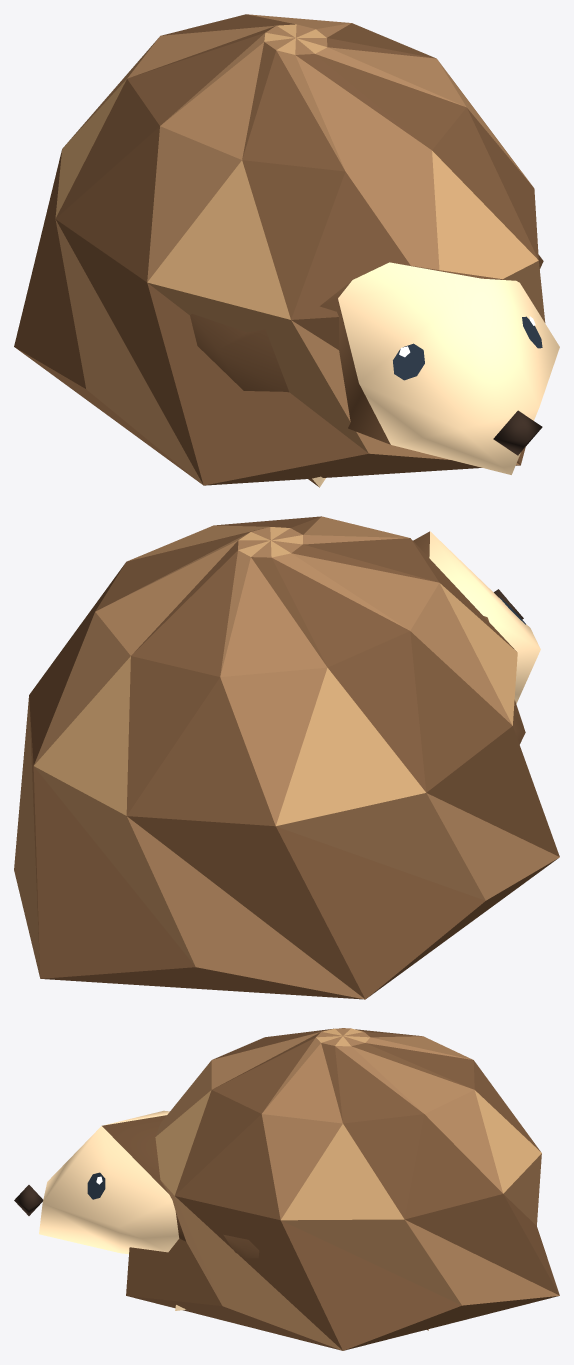
The model's file is hedgehog-walk.glb.
The picture shows the model from 3 angles, top to bottom: view 1: azimuth 30°, elevation 25°; view 2: azimuth 150°, elevation 25°; view 3: azimuth 270°, elevation 25°; orthographic projection. The views are drawn at different scales.
Parts seen in each view (by area): view 1: hedgehog-walk; view 2: hedgehog-walk; view 3: hedgehog-walk.
Part boxes in pixels (<box>): hedgehog-walk: <box>14,14,559,487</box>; hedgehog-walk: <box>14,516,559,999</box>; hedgehog-walk: <box>14,1028,559,1350</box>.
Size of the model in its own units: 0.42 by 0.33 by 0.637.
